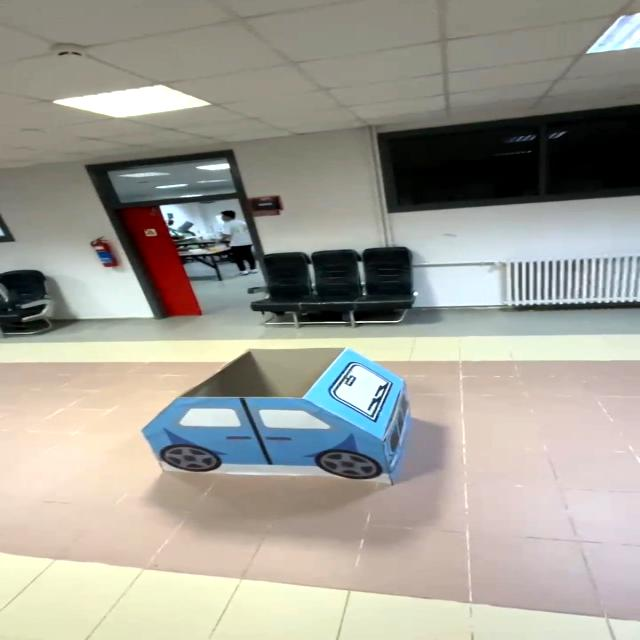blue_car: (135, 333, 448, 517)
